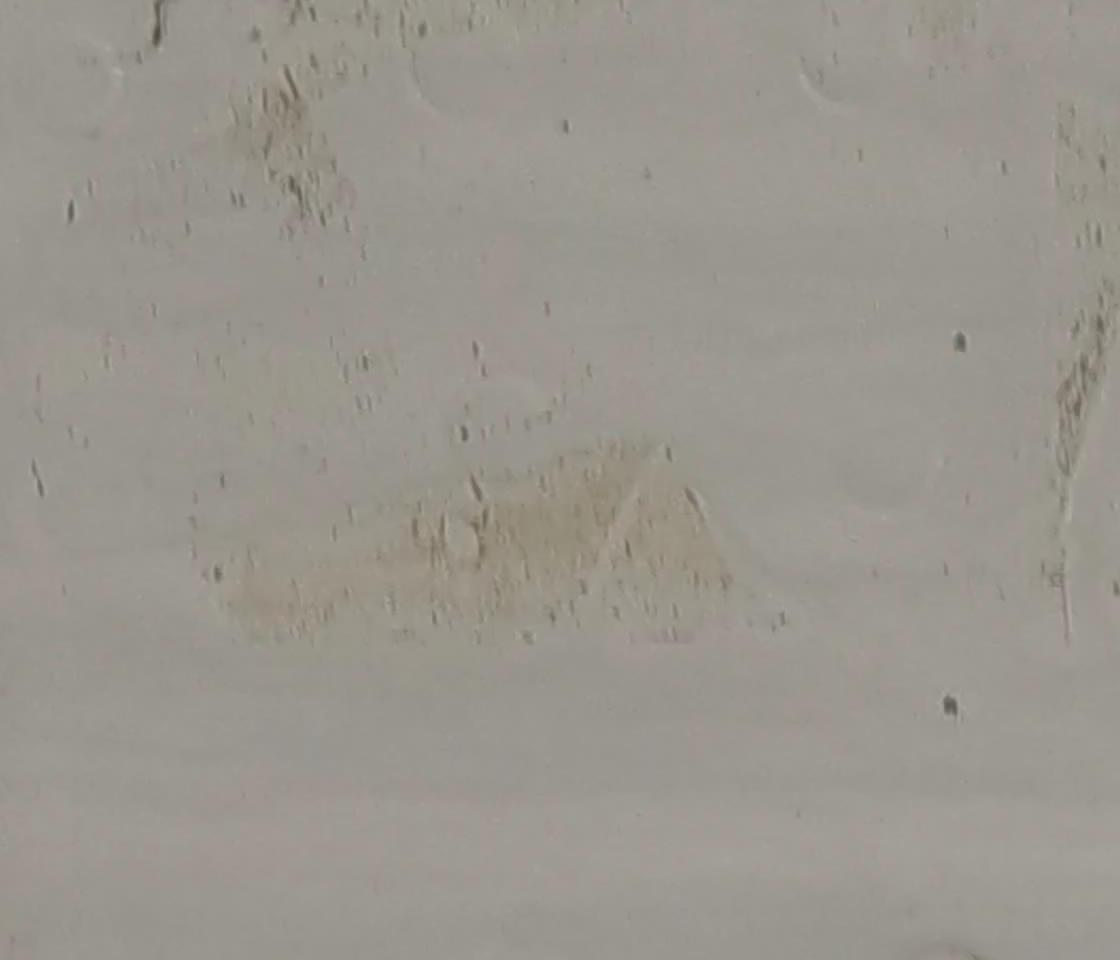scratch: (1044, 544, 1084, 656), (16, 452, 56, 502), (934, 689, 966, 725), (55, 196, 85, 231), (947, 327, 972, 361)
